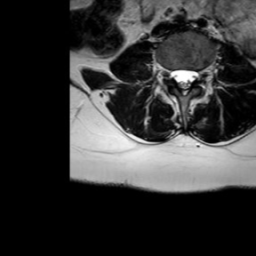CCS_normal: (179, 59, 188, 101)
LFS_normal: (197, 58, 206, 88)
LLS_normal: (188, 59, 197, 90)
RFS_normal: (161, 57, 170, 88)
RLS_normal: (170, 60, 179, 89)
